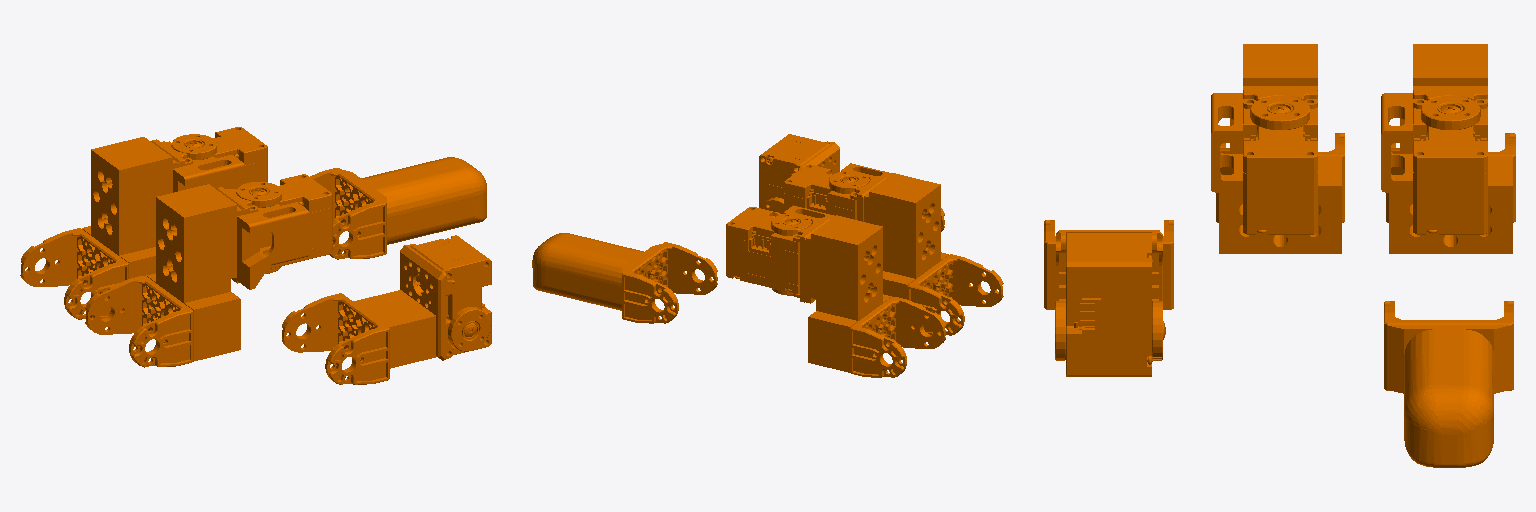
The robot description file, URDF, robot "onshape":
<robot name="onshape">
  <link name="palm_lower">
    <inertial>
      <origin xyz="0.0 0.0 0.0" rpy="0.0 -0.0 0.0"/>
      <mass value="0.237"/>
      <inertia ixx="0.000354094" ixy="-1.193e-06" ixz="-2.445e-06" iyy="0.000260915" iyz="-2.905e-06" izz="0.000529257"/>
    </inertial>
    <visual>
      <geometry>
        <mesh filename="../assets/leap/leap_hand/palm_lower.stl"/>
      </geometry>
      <origin xyz="-0.020095249652862544 0.025757756134899473 -0.034722403578460216" rpy="0.0 -0.0 0.0"/>
      <material name="palm_lower_material">
        <color rgba="0.6039215686274509 0.14901960784313725 0.14901960784313725 1.0"/>
      </material>
    </visual>
    <collision>
      <geometry>
        <mesh filename="../assets/leap/leap_hand/palm_lower.stl"/>
      </geometry>
      <origin xyz="-0.020095249652862544 0.025757756134899473 -0.034722403578460216" rpy="0.0 -0.0 0.0"/>
    </collision>
  </link>
  <link name="mcp_joint_long">
    <inertial>
      <origin xyz="0.0 0.0 0.0" rpy="0.0 -0.0 0.0"/>
      <mass value="0.044"/>
      <inertia ixx="1.1499e-05" ixy="3.049e-06" ixz="1.21e-07" iyy="7.796e-06" iyz="1.12e-07" izz="1.4759e-05"/>
    </inertial>
    <visual>
      <geometry>
        <mesh filename="custom_models/mcp_joint_long.stl"/>
      </geometry>
      <origin xyz="0.008406902261174496 0.0077662438597169954 0.014657354985032912" rpy="1.6375789613221e-15 -1.021047330249102e-30 1.7177968783327987e-31"/>
      <material name="mcp_joint_material">
        <color rgba="0.878 0.467 0.0 1.0"/>
      </material>
    </visual>
    <collision>
      <geometry>
        <mesh filename="custom_models/mcp_joint_long.stl"/>
      </geometry>
      <origin xyz="0.008406902261174496 0.0077662438597169954 0.014657354985032912" rpy="1.6375789613221e-15 -1.021047330249102e-30 1.7177968783327987e-31"/>
    </collision>
  </link>
  <link name="pip">
    <inertial>
      <origin xyz="0.0 0.0 0.0" rpy="0.0 -0.0 0.0"/>
      <mass value="0.032"/>
      <inertia ixx="4.798e-06" ixy="1.2e-08" ixz="4e-09" iyy="2.862e-06" iyz="1.1e-08" izz="4.234e-06"/>
    </inertial>
    <visual>
      <geometry>
        <mesh filename="../assets/leap/leap_hand/pip.stl"/>
      </geometry>
      <origin xyz="0.009643363092271328 0.0002999999999999895 0.0007840340104173765" rpy="-1.5707963267948966 -1.5707963267948963 0.0"/>
      <material name="pip_material">
        <color rgba="0.7490196078431373 0.7490196078431373 0.7490196078431373 1.0"/>
      </material>
    </visual>
    <collision>
      <geometry>
        <mesh filename="../assets/leap/leap_hand/pip.stl"/>
      </geometry>
      <origin xyz="0.009643363092271328 0.0002999999999999895 0.0007840340104173765" rpy="-1.5707963267948966 -1.5707963267948963 0.0"/>
    </collision>
  </link>
  <link name="dip">
    <inertial>
      <origin xyz="0.0 0.0 0.0" rpy="0.0 -0.0 0.0"/>
      <mass value="0.037"/>
      <inertia ixx="5.542e-06" ixy="-6.07e-07" ixz="-1.7e-08" iyy="5.727e-06" iyz="-2.3e-08" izz="6.682e-06"/>
    </inertial>
    <visual>
      <geometry>
        <mesh filename="../assets/leap/leap_hand/dip.stl"/>
      </geometry>
      <origin xyz="0.021133352895225003 -0.00843211914670488 0.00978508816209524" rpy="-3.141592653589793 4.507511124216441e-32 4.439548105392361e-32"/>
      <material name="dip_material">
        <color rgba="0.8666666666666667 0.8666666666666667 0.050980392156862744 1.0"/>
      </material>
    </visual>
    <collision>
      <geometry>
        <mesh filename="../assets/leap/leap_hand/dip.stl"/>
      </geometry>
      <origin xyz="0.021133352895225003 -0.00843211914670488 0.00978508816209524" rpy="-3.141592653589793 4.507511124216441e-32 4.439548105392361e-32"/>
    </collision>
  </link>
  <link name="fingertip_long">
    <inertial>
      <origin xyz="0.0 0.0 0.0" rpy="0.0 -0.0 0.0"/>
      <mass value="0.016"/>
      <inertia ixx="3.368e-06" ixy="1.15e-07" ixz="0.0" iyy="1.556e-06" iyz="0.0" izz="2.863e-06"/>
    </inertial>
    <visual>
      <geometry>
        <mesh filename="custom_models/fingertip_long.stl"/>
      </geometry>
      <origin xyz="0.013286424108533503 -0.006114238386541987 0.014499999999999498" rpy="3.141592653589793 1.1993117970061735e-33 4.439548105392361e-32"/>
      <material name="fingertip_material">
        <color rgba="0.878 0.467 0.0 1.0"/>
      </material>
    </visual>
    <collision>
      <geometry>
        <mesh filename="custom_models/fingertip_long.stl"/>
      </geometry>
      <origin xyz="0.013286424108533503 -0.006114238386541987 0.014499999999999498" rpy="3.141592653589793 1.1993117970061735e-33 4.439548105392361e-32"/>
    </collision>
  </link>
  <link name="pip_4">
    <inertial>
      <origin xyz="0.0 0.0 0.0" rpy="0.0 -0.0 0.0"/>
      <mass value="0.032"/>
      <inertia ixx="4.798e-06" ixy="1.2e-08" ixz="4e-09" iyy="2.862e-06" iyz="1.1e-08" izz="4.234e-06"/>
    </inertial>
    <visual>
      <geometry>
        <mesh filename="../assets/leap/leap_hand/pip.stl"/>
      </geometry>
      <origin xyz="-0.005356636907728671 0.0002999999999999999 0.0007840340104173782" rpy="-1.5707963267948966 -1.5707963267948963 0.0"/>
      <material name="pip_material">
        <color rgba="0.7490196078431373 0.7490196078431373 0.7490196078431373 1.0"/>
      </material>
    </visual>
    <collision>
      <geometry>
        <mesh filename="../assets/leap/leap_hand/pip.stl"/>
      </geometry>
      <origin xyz="-0.005356636907728671 0.0002999999999999999 0.0007840340104173782" rpy="-1.5707963267948966 -1.5707963267948963 0.0"/>
    </collision>
  </link>
  <link name="thumb_pip">
    <inertial>
      <origin xyz="0.0 0.0 0.0" rpy="0.0 -0.0 0.0"/>
      <mass value="0.003"/>
      <inertia ixx="5.93e-07" ixy="0.0" ixz="0.0" iyy="5.49e-07" iyz="0.0" izz="2.24e-07"/>
    </inertial>
    <visual>
      <geometry>
        <mesh filename="../assets/leap/leap_hand/thumb_pip.stl"/>
      </geometry>
      <origin xyz="0.011961920770611187 -5.30825383648903e-16 -0.0158526489566642" rpy="1.5707963267948966 1.6050198443300153e-46 -3.9204996250525193e-59"/>
      <material name="thumb_pip_material">
        <color rgba="0.8666666666666667 0.8666666666666667 0.050980392156862744 1.0"/>
      </material>
    </visual>
    <collision>
      <geometry>
        <mesh filename="../assets/leap/leap_hand/thumb_pip.stl"/>
      </geometry>
      <origin xyz="0.011961920770611187 -5.30825383648903e-16 -0.0158526489566642" rpy="1.5707963267948966 1.6050198443300153e-46 -3.9204996250525193e-59"/>
    </collision>
  </link>
  <link name="thumb_dip">
    <inertial>
      <origin xyz="0.0 0.0 0.0" rpy="0.0 -0.0 0.0"/>
      <mass value="0.038"/>
      <inertia ixx="8.474e-06" ixy="2.41e-07" ixz="2.6e-08" iyy="3.841e-06" iyz="2.5e-08" izz="7.679e-06"/>
    </inertial>
    <visual>
      <geometry>
        <mesh filename="../assets/leap/leap_hand/thumb_dip.stl"/>
      </geometry>
      <origin xyz="0.043968715707239175 0.0579529529737092 -0.008628676449369476" rpy="1.94289029309401e-16 3.27515792264422e-15 1.112375852965736e-46"/>
      <material name="thumb_dip_material">
        <color rgba="0.8666666666666667 0.8666666666666667 0.050980392156862744 1.0"/>
      </material>
    </visual>
    <collision>
      <geometry>
        <mesh filename="../assets/leap/leap_hand/thumb_dip.stl"/>
      </geometry>
      <origin xyz="0.043968715707239175 0.0579529529737092 -0.008628676449369476" rpy="1.94289029309401e-16 3.27515792264422e-15 1.112375852965736e-46"/>
    </collision>
  </link>
  <link name="thumb_fingertip">
    <inertial>
      <origin xyz="0.0 0.0 0.0" rpy="0.0 -0.0 0.0"/>
      <mass value="0.049"/>
      <inertia ixx="2.0372e-05" ixy="-4.89e-07" ixz="-3e-08" iyy="4.336e-06" iyz="-9.7e-08" izz="1.9845e-05"/>
    </inertial>
    <visual>
      <geometry>
        <mesh filename="../assets/leap/leap_hand/thumb_fingertip.stl"/>
      </geometry>
      <origin xyz="0.06255953846266739 0.07845968291139699 0.048992911807332215" rpy="4.379057701015637e-47 -3.33066907387547e-16 1.2042408677791935e-46"/>
      <material name="thumb_fingertip_material">
        <color rgba="0.6039215686274509 0.14901960784313725 0.14901960784313725 1.0"/>
      </material>
    </visual>
    <collision>
      <geometry>
        <mesh filename="../assets/leap/leap_hand/thumb_fingertip.stl"/>
      </geometry>
      <origin xyz="0.06255953846266739 0.07845968291139699 0.048992911807332215" rpy="4.379057701015637e-47 -3.33066907387547e-16 1.2042408677791935e-46"/>
    </collision>
  </link>
  <link name="mcp_joint_2_long">
    <inertial>
      <origin xyz="0.0 0.0 0.0" rpy="0.0 -0.0 0.0"/>
      <mass value="0.044"/>
      <inertia ixx="1.1499e-05" ixy="3.049e-06" ixz="1.21e-07" iyy="7.796e-06" iyz="1.12e-07" izz="1.4759e-05"/>
    </inertial>
    <visual>
      <geometry>
        <mesh filename="custom_models/mcp_joint_long.stl"/>
      </geometry>
      <origin xyz="0.008406902261174496 0.0077662438597169954 0.014657354985032914" rpy="1.6375789613221e-15 -1.0076465469034e-30 2.1209300131419907e-61"/>
      <material name="mcp_joint_material">
        <color rgba="0.878 0.467 0.0 1.0"/>
      </material>
    </visual>
    <collision>
      <geometry>
        <mesh filename="custom_models/mcp_joint_long.stl"/>
      </geometry>
      <origin xyz="0.008406902261174496 0.0077662438597169954 0.014657354985032914" rpy="1.6375789613221e-15 -1.0076465469034e-30 2.1209300131419907e-61"/>
    </collision>
  </link>
  <link name="pip_2">
    <inertial>
      <origin xyz="0.0 0.0 0.0" rpy="0.0 -0.0 0.0"/>
      <mass value="0.032"/>
      <inertia ixx="4.798e-06" ixy="1.2e-08" ixz="4e-09" iyy="2.862e-06" iyz="1.1e-08" izz="4.234e-06"/>
    </inertial>
    <visual>
      <geometry>
        <mesh filename="../assets/leap/leap_hand/pip.stl"/>
      </geometry>
      <origin xyz="0.009643363092271328 0.0002999999999999947 0.0007840340104173765" rpy="-1.5707963267948966 -1.5707963267948963 0.0"/>
      <material name="pip_material">
        <color rgba="0.7490196078431373 0.7490196078431373 0.7490196078431373 1.0"/>
      </material>
    </visual>
    <collision>
      <geometry>
        <mesh filename="../assets/leap/leap_hand/pip.stl"/>
      </geometry>
      <origin xyz="0.009643363092271328 0.0002999999999999947 0.0007840340104173765" rpy="-1.5707963267948966 -1.5707963267948963 0.0"/>
    </collision>
  </link>
  <link name="dip_2">
    <inertial>
      <origin xyz="0.0 0.0 0.0" rpy="0.0 -0.0 0.0"/>
      <mass value="0.037"/>
      <inertia ixx="5.542e-06" ixy="-6.07e-07" ixz="-1.7e-08" iyy="5.727e-06" iyz="-2.3e-08" izz="6.682e-06"/>
    </inertial>
    <visual>
      <geometry>
        <mesh filename="../assets/leap/leap_hand/dip.stl"/>
      </geometry>
      <origin xyz="0.021133352895225003 -0.008432119146704865 0.009785088162095237" rpy="-3.141592653589793 2.1146933785271956e-32 1.4408183216511869e-31"/>
      <material name="dip_material">
        <color rgba="0.8666666666666667 0.8666666666666667 0.050980392156862744 1.0"/>
      </material>
    </visual>
    <collision>
      <geometry>
        <mesh filename="../assets/leap/leap_hand/dip.stl"/>
      </geometry>
      <origin xyz="0.021133352895225003 -0.008432119146704865 0.009785088162095237" rpy="-3.141592653589793 2.1146933785271956e-32 1.4408183216511869e-31"/>
    </collision>
  </link>
  <link name="fingertip_2">
    <inertial>
      <origin xyz="0.0 0.0 0.0" rpy="0.0 -0.0 0.0"/>
      <mass value="0.016"/>
      <inertia ixx="3.368e-06" ixy="1.15e-07" ixz="0.0" iyy="1.556e-06" iyz="0.0" izz="2.863e-06"/>
    </inertial>
    <visual>
      <geometry>
        <mesh filename="../assets/leap/leap_hand/fingertip.stl"/>
      </geometry>
      <origin xyz="0.013286424108533496 -0.006114238386542001 0.014499999999999496" rpy="3.141592653589793 -4.317959788283594e-33 1.4408183216511869e-31"/>
      <material name="fingertip_material">
        <color rgba="0.8666666666666667 0.8666666666666667 0.050980392156862744 1.0"/>
      </material>
    </visual>
    <collision>
      <geometry>
        <mesh filename="../assets/leap/leap_hand/fingertip.stl"/>
      </geometry>
      <origin xyz="0.013286424108533496 -0.006114238386542001 0.014499999999999496" rpy="3.141592653589793 -4.317959788283594e-33 1.4408183216511869e-31"/>
    </collision>
  </link>
  <link name="mcp_joint_3">
    <inertial>
      <origin xyz="0.0 0.0 0.0" rpy="0.0 -0.0 0.0"/>
      <mass value="0.044"/>
      <inertia ixx="1.1499e-05" ixy="3.049e-06" ixz="1.21e-07" iyy="7.796e-06" iyz="1.12e-07" izz="1.4759e-05"/>
    </inertial>
    <visual>
      <geometry>
        <mesh filename="../assets/leap/leap_hand/mcp_joint.stl"/>
      </geometry>
      <origin xyz="0.0084069022611745 0.007766243859716996 0.014657354985032914" rpy="1.6375789613221e-15 -1.0059504988632627e-30 5.729641584552035e-32"/>
      <material name="mcp_joint_material">
        <color rgba="0.8666666666666667 0.8666666666666667 0.050980392156862744 1.0"/>
      </material>
    </visual>
    <collision>
      <geometry>
        <mesh filename="../assets/leap/leap_hand/mcp_joint.stl"/>
      </geometry>
      <origin xyz="0.0084069022611745 0.007766243859716996 0.014657354985032914" rpy="1.6375789613221e-15 -1.0059504988632627e-30 5.729641584552035e-32"/>
    </collision>
  </link>
  <link name="pip_3">
    <inertial>
      <origin xyz="0.0 0.0 0.0" rpy="0.0 -0.0 0.0"/>
      <mass value="0.032"/>
      <inertia ixx="4.798e-06" ixy="1.2e-08" ixz="4e-09" iyy="2.862e-06" iyz="1.1e-08" izz="4.234e-06"/>
    </inertial>
    <visual>
      <geometry>
        <mesh filename="../assets/leap/leap_hand/pip.stl"/>
      </geometry>
      <origin xyz="0.009643363092271331 0.00029999999999998084 0.0007840340104173765" rpy="-1.5707963267948966 -1.5707963267948963 0.0"/>
      <material name="pip_material">
        <color rgba="0.7490196078431373 0.7490196078431373 0.7490196078431373 1.0"/>
      </material>
    </visual>
    <collision>
      <geometry>
        <mesh filename="../assets/leap/leap_hand/pip.stl"/>
      </geometry>
      <origin xyz="0.009643363092271331 0.00029999999999998084 0.0007840340104173765" rpy="-1.5707963267948966 -1.5707963267948963 0.0"/>
    </collision>
  </link>
  <link name="dip_3_long">
    <inertial>
      <origin xyz="0.0 0.0 0.0" rpy="0.0 -0.0 0.0"/>
      <mass value="0.037"/>
      <inertia ixx="5.542e-06" ixy="-6.07e-07" ixz="-1.7e-08" iyy="5.727e-06" iyz="-2.3e-08" izz="6.682e-06"/>
    </inertial>
    <visual>
      <geometry>
        <mesh filename="custom_models/dip_long.stl"/>
      </geometry>
      <origin xyz="0.021133352895225006 -0.008432119146704865 0.009785088162095237" rpy="-3.141592653589793 -1.4095651113919093e-33 1.5565411607615035e-32"/>
      <material name="dip_material">
        <color rgba="0.878 0.467 0.0 1.0"/>
      </material>
    </visual>
    <collision>
      <geometry>
        <mesh filename="custom_models/dip_long.stl"/>
      </geometry>
      <origin xyz="0.021133352895225006 -0.008432119146704865 0.009785088162095237" rpy="-3.141592653589793 -1.4095651113919093e-33 1.5565411607615035e-32"/>
    </collision>
  </link>
  <link name="fingertip_3">
    <inertial>
      <origin xyz="0.0 0.0 0.0" rpy="0.0 -0.0 0.0"/>
      <mass value="0.016"/>
      <inertia ixx="3.368e-06" ixy="1.15e-07" ixz="0.0" iyy="1.556e-06" iyz="0.0" izz="2.863e-06"/>
    </inertial>
    <visual>
      <geometry>
        <mesh filename="../assets/leap/leap_hand/fingertip.stl"/>
      </geometry>
      <origin xyz="0.013286424108533501 -0.006114238386541987 0.0144999999999995" rpy="3.141592653589793 8.61707169505754e-33 1.5565411607615035e-32"/>
      <material name="fingertip_material">
        <color rgba="0.8666666666666667 0.8666666666666667 0.050980392156862744 1.0"/>
      </material>
    </visual>
    <collision>
      <geometry>
        <mesh filename="../assets/leap/leap_hand/fingertip.stl"/>
      </geometry>
      <origin xyz="0.013286424108533501 -0.006114238386541987 0.0144999999999995" rpy="3.141592653589793 8.61707169505754e-33 1.5565411607615035e-32"/>
    </collision>
  </link>
  <joint name="1" type="revolute">
    <parent link="palm_lower"/>
    <child link="mcp_joint_long"/>
    <origin xyz="-0.007095249652862546 0.023057756134899472 -0.01872240357846022" rpy="1.570796326794895 1.5707963267948946 0.0"/>
    <axis xyz="0.0 0.0 -1.0"/>
    <limit effort="0.95" velocity="8.48" lower="-0.314" upper="2.23"/>
  </joint>
  <joint name="0" type="revolute">
    <parent link="mcp_joint_long"/>
    <child link="pip"/>
    <origin xyz="-0.012200000000000007713 0.053099999999999994982 0.014500000000000000736" rpy="-1.5707963267948966 -1.0065212660796337e-15 1.5707963267948943"/>
    <axis xyz="0.0 0.0 -1.0"/>
    <limit effort="0.95" velocity="8.48" lower="-1.047" upper="1.047"/>
  </joint>
  <joint name="2" type="revolute">
    <parent link="pip"/>
    <child link="dip"/>
    <origin xyz="0.014999999999999968 0.014299999999999905 -0.012999999999999824" rpy="1.570796326794896 -1.5707963267948963 0.0"/>
    <axis xyz="0.0 0.0 -1.0"/>
    <limit effort="0.95" velocity="8.48" lower="-0.506" upper="1.885"/>
  </joint>
  <joint name="3" type="revolute">
    <parent link="dip"/>
    <child link="fingertip_long"/>
    <origin xyz="-4.088058249557269e-09 -0.03610000421036737 0.0002000000000000786" rpy="4.5935029425113685e-17 -2.8730071914463795e-16 4.439548105392361e-32"/>
    <axis xyz="0.0 0.0 -1.0"/>
    <limit effort="0.95" velocity="8.48" lower="-0.366" upper="2.042"/>
  </joint>
  <joint name="12" type="revolute">
    <parent link="palm_lower"/>
    <child link="pip_4"/>
    <origin xyz="-0.06939524965286253 -0.0012422438651005258 -0.021622403578460216" rpy="-8.238176646493942e-17 1.5707963267948957 0.0"/>
    <axis xyz="0.0 0.0 -1.0"/>
    <limit effort="0.95" velocity="8.48" lower="-0.349" upper="2.094"/>
  </joint>
  <joint name="13" type="revolute">
    <parent link="pip_4"/>
    <child link="thumb_pip"/>
    <origin xyz="-2.7755575615628914e-17 0.014300000000000005 -0.013000000000000012" rpy="1.570796326794896 -1.5707963267948963 0.0"/>
    <axis xyz="0.0 0.0 -1.0"/>
    <limit effort="0.95" velocity="8.48" lower="-0.47" upper="2.443"/>
  </joint>
  <joint name="14" type="revolute">
    <parent link="thumb_pip"/>
    <child link="thumb_dip"/>
    <origin xyz="0.0 0.014499999999999966 -0.017000000000000053" rpy="-1.5707963267948966 1.6050198443300131e-46 -1.9721522630516625e-31"/>
    <axis xyz="0.0 0.0 -1.0"/>
    <limit effort="0.95" velocity="8.48" lower="-1.2" upper="1.9"/>
  </joint>
  <joint name="15" type="revolute">
    <parent link="thumb_dip"/>
    <child link="thumb_fingertip"/>
    <origin xyz="-1.249000902703301e-16 0.046599999999999864 0.0001999999999999771" rpy="1.506395849149178e-44 5.423418723393526e-31 3.141592653589793"/>
    <axis xyz="0.0 0.0 -1.0"/>
    <limit effort="0.95" velocity="8.48" lower="-1.34" upper="1.88"/>
  </joint>
  <joint name="5" type="revolute">
    <parent link="palm_lower"/>
    <child link="mcp_joint_2_long"/>
    <origin xyz="-0.007095249652862546 -0.022392243865100525 -0.01872240357846022" rpy="1.570796326794895 1.5707963267948946 0.0"/>
    <axis xyz="0.0 0.0 -1.0"/>
    <limit effort="0.95" velocity="8.48" lower="-0.314" upper="2.23"/>
  </joint>
  <joint name="4" type="revolute">
    <parent link="mcp_joint_2_long"/>
    <child link="pip_2"/>
    <origin xyz="-0.012200000000000007713 0.053099999999999994982 0.014500000000000000736" rpy="-1.5707963267948966 -1.0065212660796337e-15 1.5707963267948943"/>
    <axis xyz="0.0 0.0 -1.0"/>
    <limit effort="0.95" velocity="8.48" lower="-1.047" upper="1.047"/>
  </joint>
  <joint name="6" type="revolute">
    <parent link="pip_2"/>
    <child link="dip_2"/>
    <origin xyz="0.014999999999999968 0.014299999999999905 -0.012999999999999824" rpy="1.570796326794896 -1.5707963267948963 0.0"/>
    <axis xyz="0.0 0.0 -1.0"/>
    <limit effort="0.95" velocity="8.48" lower="-0.506" upper="1.885"/>
  </joint>
  <joint name="7" type="revolute">
    <parent link="dip_2"/>
    <child link="fingertip_2"/>
    <origin xyz="-4.088058249557269e-09 -0.03610000421036737 0.0002000000000000786" rpy="4.5935029425113685e-17 -2.8730071914463795e-16 4.439548105392361e-32"/>
    <axis xyz="0.0 0.0 -1.0"/>
    <limit effort="0.95" velocity="8.48" lower="-0.366" upper="2.042"/>
  </joint>
  <joint name="9" type="revolute">
    <parent link="palm_lower"/>
    <child link="mcp_joint_3"/>
    <origin xyz="-0.007095249652862546 -0.06784224386510052 -0.01872240357846022" rpy="1.570796326794895 1.5707963267948946 0.0"/>
    <axis xyz="0.0 0.0 -1.0"/>
    <limit effort="0.95" velocity="8.48" lower="-0.314" upper="2.23"/>
  </joint>
  <joint name="8" type="revolute">
    <parent link="mcp_joint_3"/>
    <child link="pip_3"/>
    <origin xyz="-0.012200000000000008 0.038099999999999995 0.0145" rpy="-1.5707963267948966 -1.0065212660796337e-15 1.5707963267948943"/>
    <axis xyz="0.0 0.0 -1.0"/>
    <limit effort="0.95" velocity="8.48" lower="-1.047" upper="1.047"/>
  </joint>
  <joint name="10" type="revolute">
    <parent link="pip_3"/>
    <child link="dip_3_long"/>
    <origin xyz="0.014999999999999968 0.014299999999999905 -0.012999999999999824" rpy="1.570796326794896 -1.5707963267948963 0.0"/>
    <axis xyz="0.0 0.0 -1.0"/>
    <limit effort="0.95" velocity="8.48" lower="-0.506" upper="1.885"/>
  </joint>
  <joint name="11" type="revolute">
    <parent link="dip_3_long"/>
    <child link="fingertip_3"/>
    <origin xyz="-4.0880582495572692636e-09 -0.051100004210367367397 0.00020000000000007858714" rpy="4.5935029425113685e-17 -2.8730071914463795e-16 4.439548105392361e-32"/>
    <axis xyz="0.0 0.0 -1.0"/>
    <limit effort="0.95" velocity="8.48" lower="-0.366" upper="2.042"/>
  </joint>
</robot>

--- Facts derived from the render (not from the file) ---
3 views of the same robot in one strip: view 1: azimuth 30°, elevation 25°; view 2: azimuth 150°, elevation 25°; view 3: azimuth 270°, elevation 25° (orthographic).
Robot: onshape — 17 links, 16 joints (16 revolute); root link palm_lower; default pose: all joints at 0.
Visible links, largest first — view 1: mcp_joint_2_long, mcp_joint_long, dip_3_long, fingertip_long; view 2: mcp_joint_long, mcp_joint_2_long, fingertip_long, dip_3_long; view 3: mcp_joint_long, mcp_joint_2_long, dip_3_long, fingertip_long.
Boxes of the visible links, left/top/right/bottom form: mcp_joint_2_long: left=85, top=174, right=332, bottom=367; mcp_joint_long: left=20, top=127, right=267, bottom=319; dip_3_long: left=282, top=235, right=491, bottom=384; fingertip_long: left=310, top=157, right=486, bottom=259; mcp_joint_long: left=726, top=205, right=945, bottom=377; mcp_joint_2_long: left=784, top=163, right=1003, bottom=335; fingertip_long: left=532, top=233, right=717, bottom=323; dip_3_long: left=759, top=134, right=944, bottom=231; mcp_joint_long: left=1381, top=44, right=1515, bottom=253; mcp_joint_2_long: left=1211, top=44, right=1344, bottom=253; dip_3_long: left=1044, top=220, right=1173, bottom=376; fingertip_long: left=1384, top=301, right=1513, bottom=467.
Bounding box of the posed robot: 0.1766 × 0.1257 × 0.0549 m (x, y, z).
Meshes: 11 distinct files referenced, 4 mesh visuals loaded (3 binary STL); not drawn: 13 (reference not matched to a file when rendering).